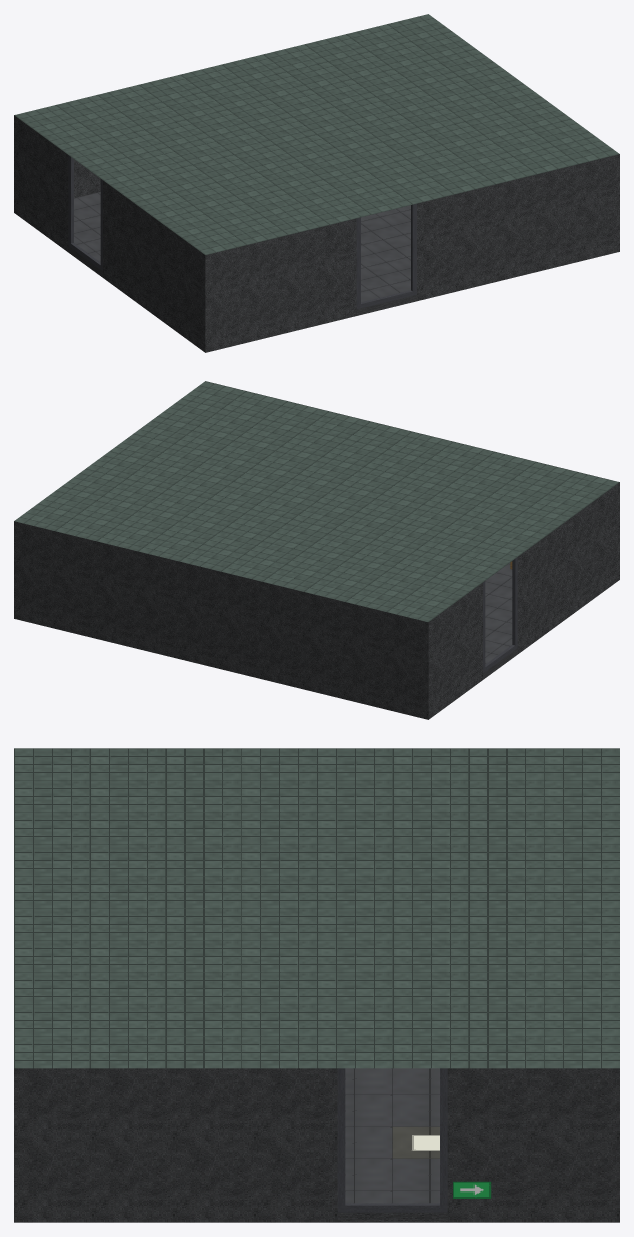
The model's file is storage.obj.
3 views of the same model, one above another, from view 1: azimuth 30°, elevation 25°; view 2: azimuth 150°, elevation 25°; view 3: azimuth 270°, elevation 25° (orthographic). The views are drawn at different scales.
Bounding box in the file's own units: 800 × 180 × 640.
13 materials, 12 textured.
